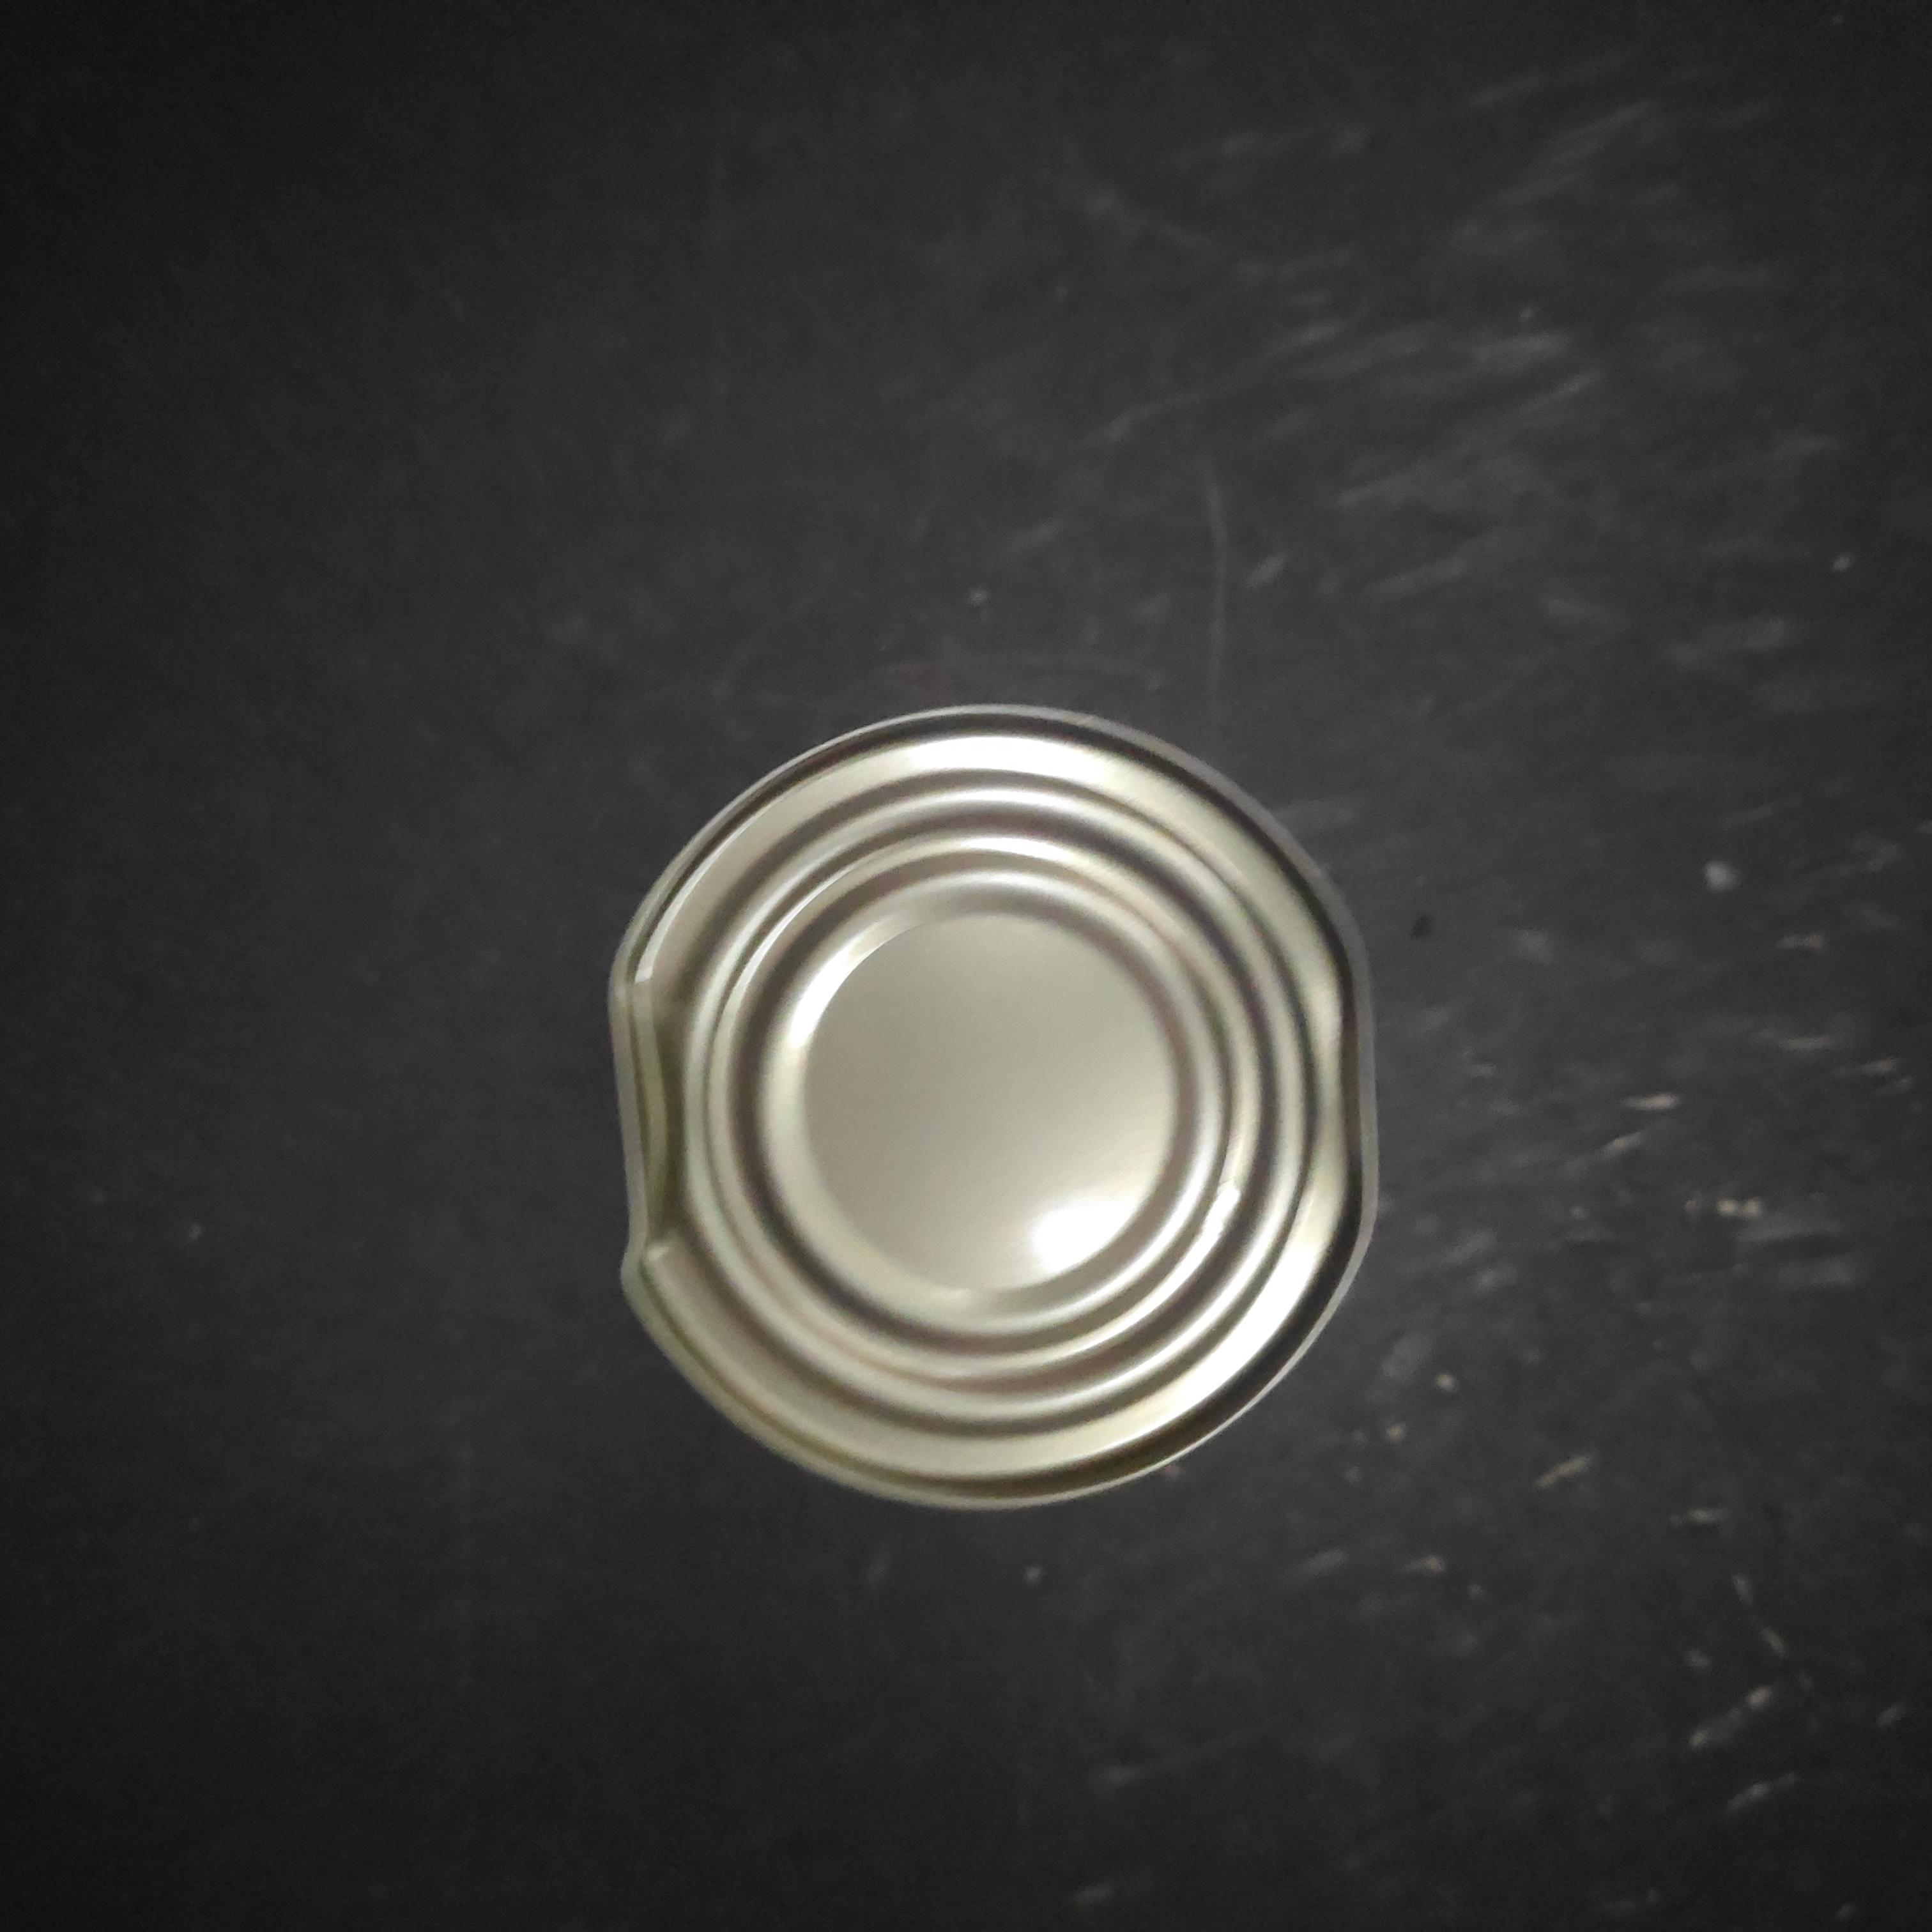Minor Defect: (538, 406, 1351, 1243)
